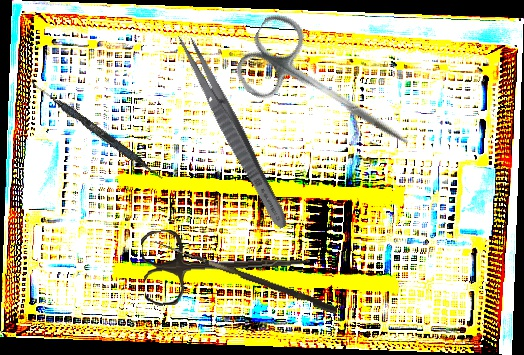Dressing Forceps: (171, 29, 294, 233)
Hook Surgical: (151, 240, 339, 315)
Iris Scissors: (228, 7, 432, 176), (140, 220, 313, 307)
Spatula Surgical: (26, 79, 167, 181)
